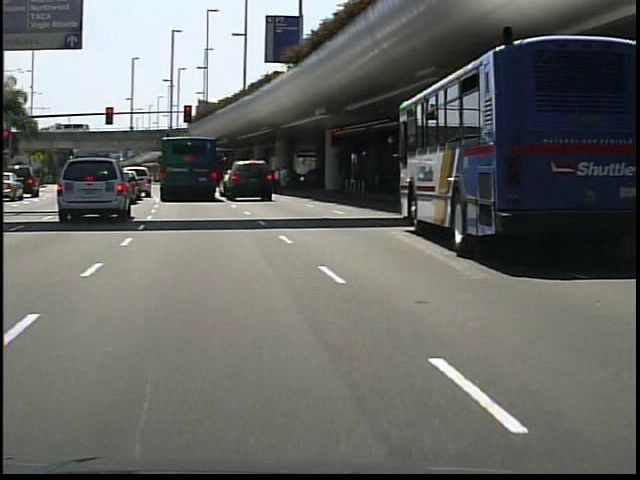person: (274, 162, 294, 199)
